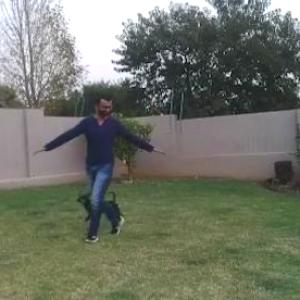land: (56, 94, 169, 228)
